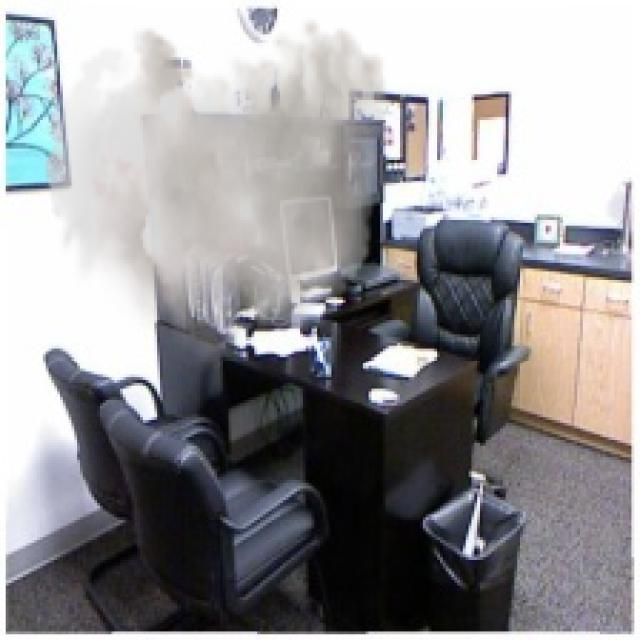smoke: (46, 17, 388, 377)
